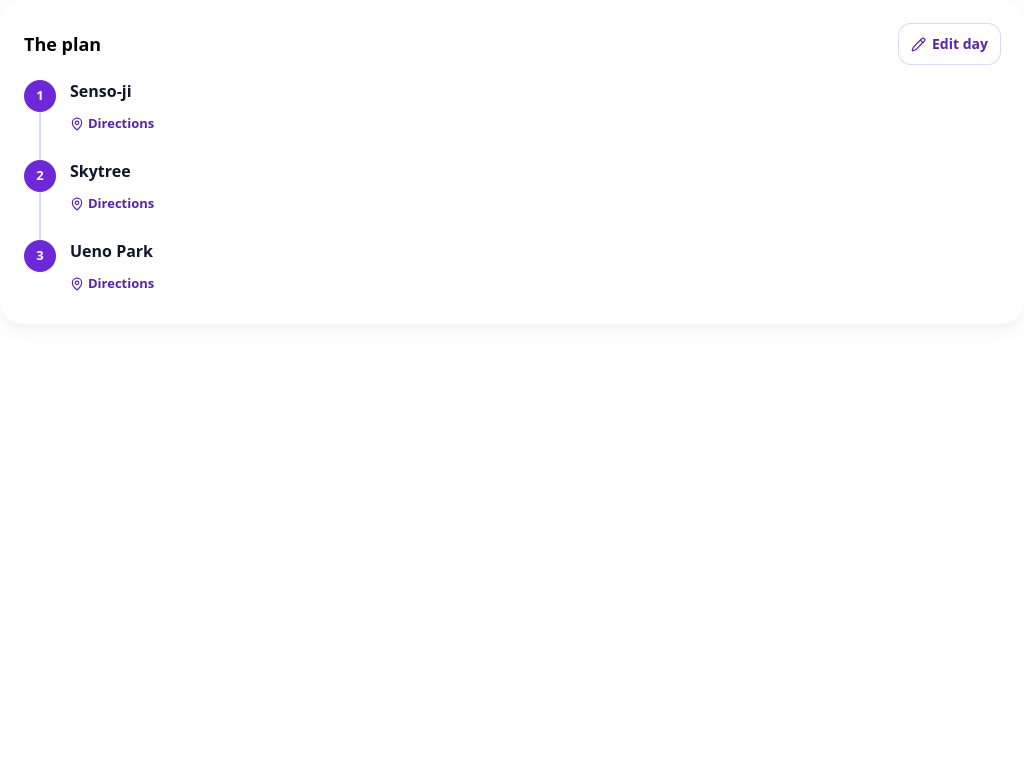
Test: editing a day › re-plan the day with a note
Click the button "Edit day".
click(950, 44)  # box x1=899 y1=24 x2=1000 y2=64
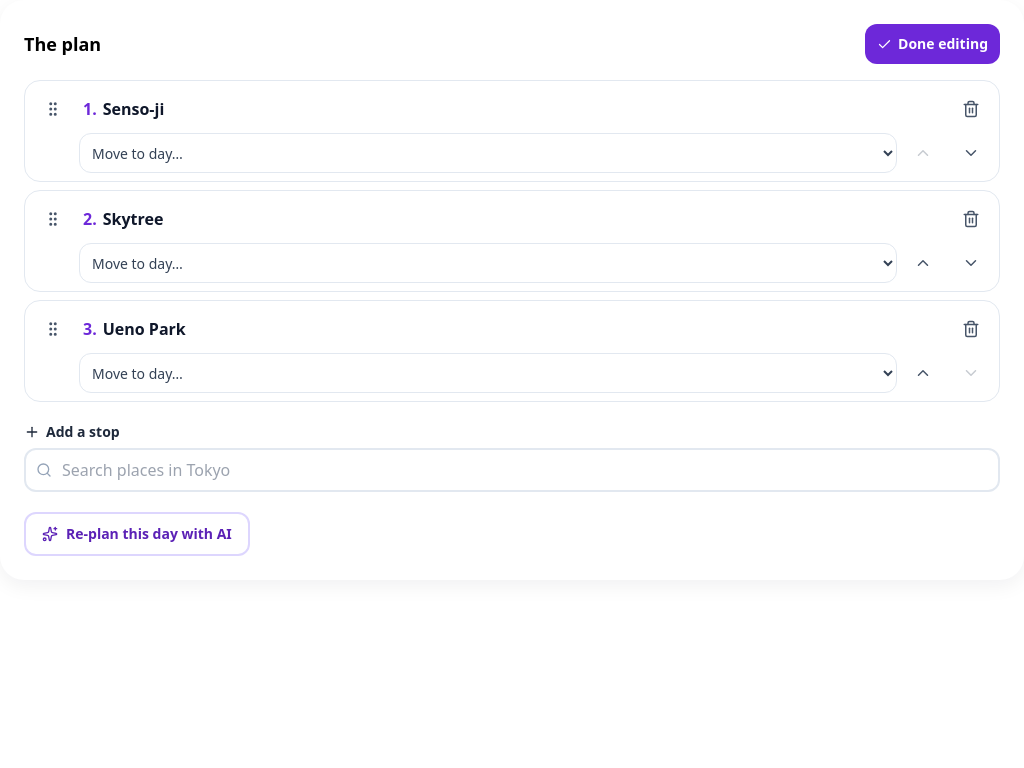
Click the button "Re-plan this day with AI".
click(137, 534)  # box x1=24 y1=512 x2=250 y2=556
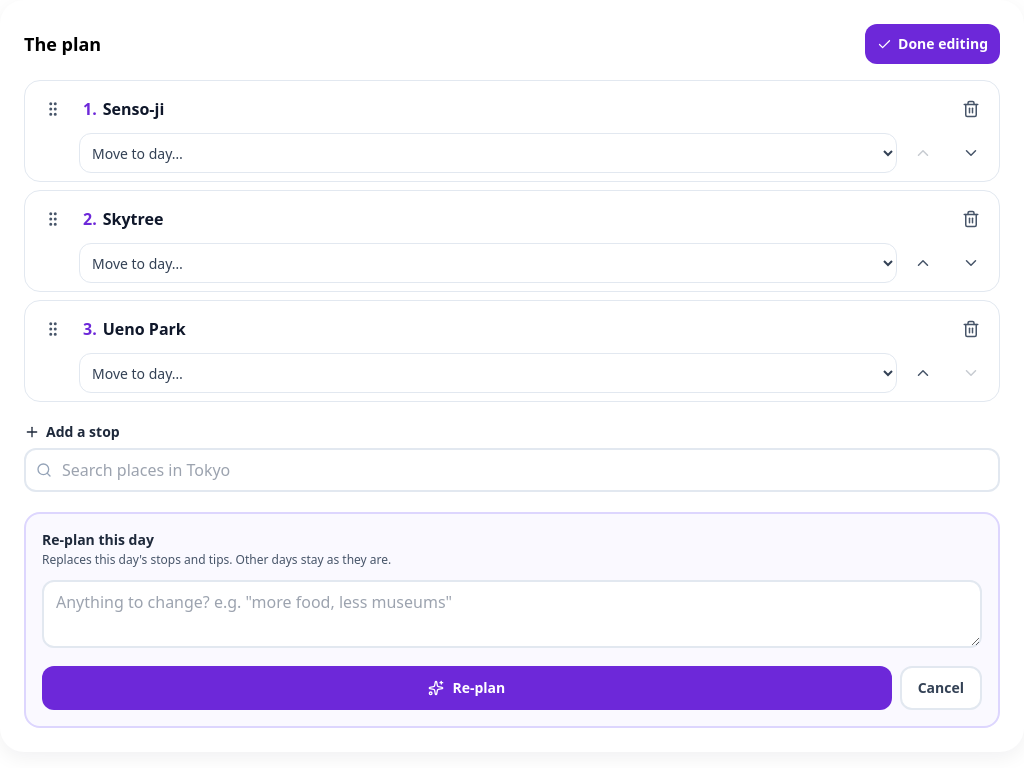
Type "more food" into the text box labelled "Re-plan this day".
click(512, 614); type("more food")  # box x1=42 y1=580 x2=982 y2=648
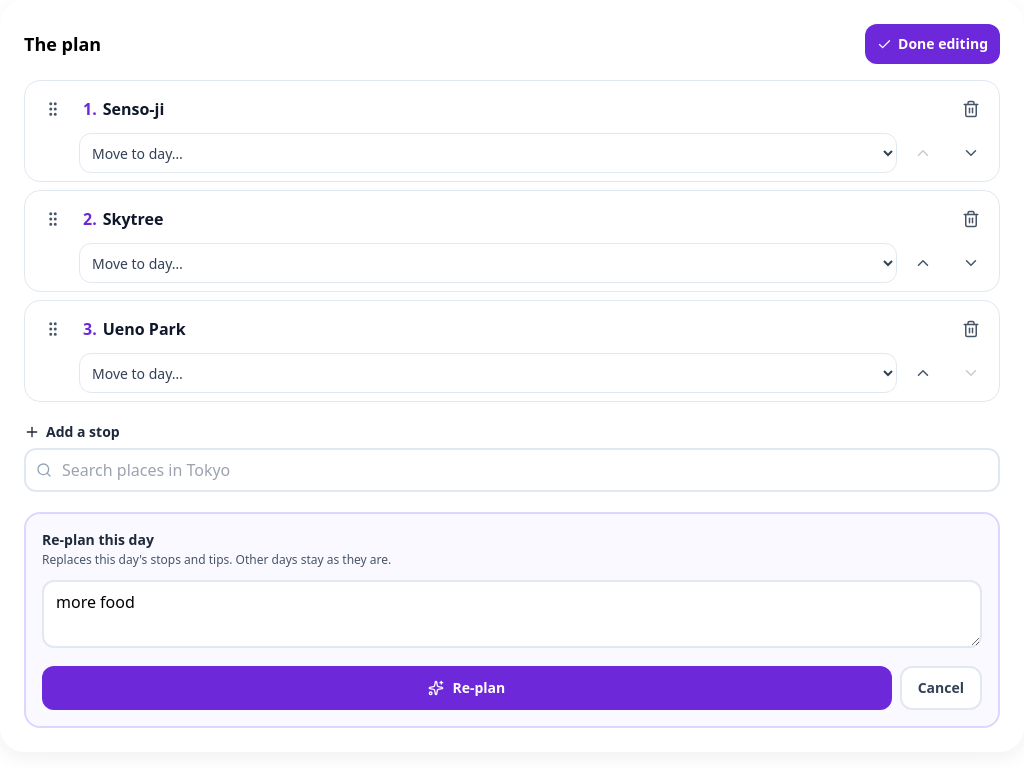
Click the button "Re-plan".
click(467, 688)  # box x1=42 y1=666 x2=892 y2=710
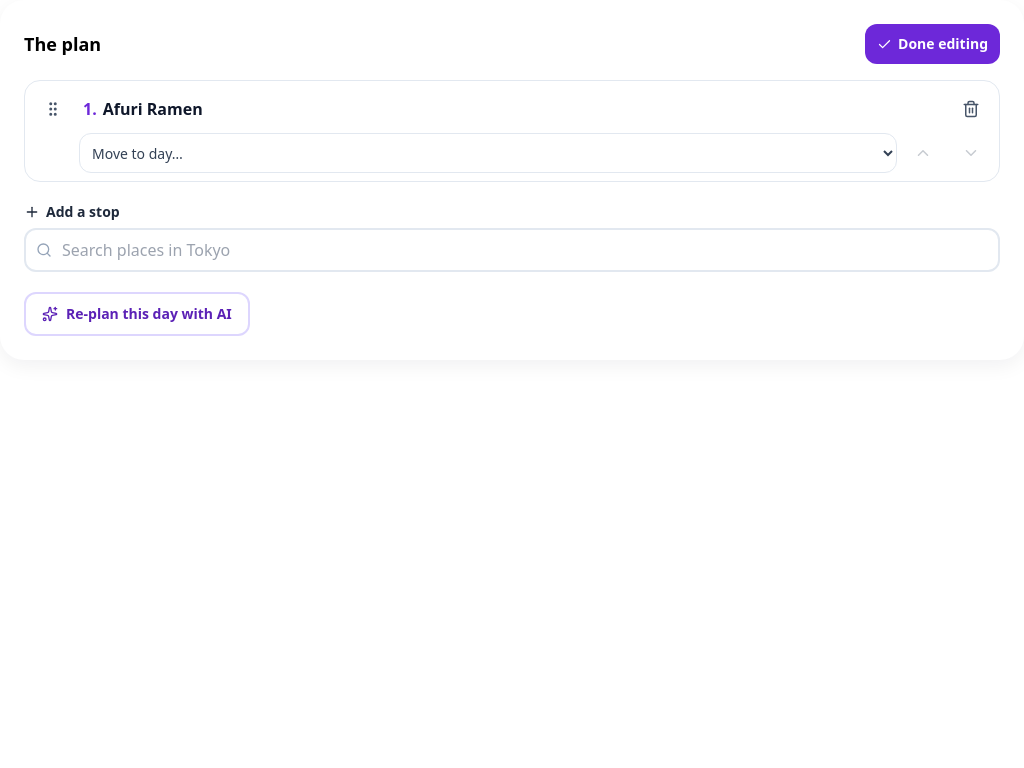
Expected: the list item shows "Afuri Ramen", x1=103 y1=98 x2=203 y2=120
